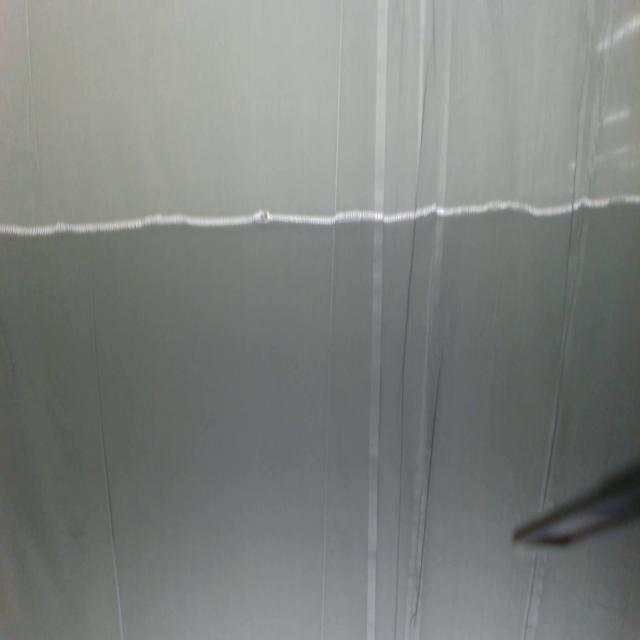crease: (391, 0, 453, 636), (540, 29, 592, 488), (366, 0, 388, 640), (90, 290, 126, 639), (321, 224, 339, 639), (24, 2, 43, 169), (334, 1, 344, 211), (522, 549, 541, 638)
